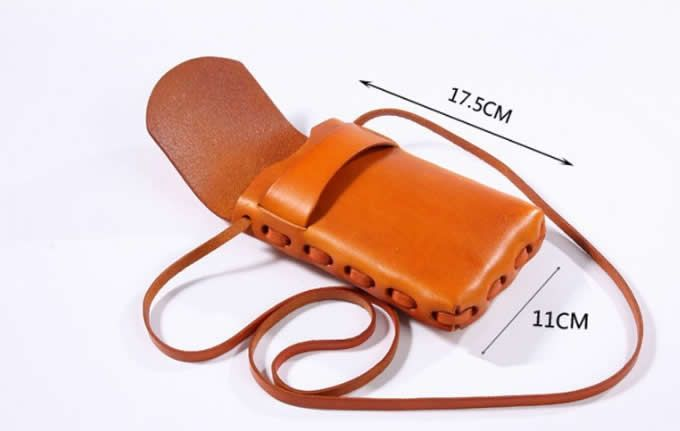cuero: (140, 56, 647, 412)
